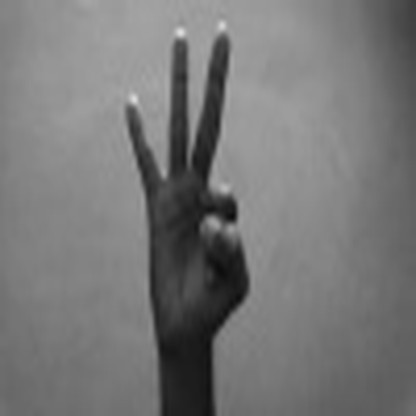f: (108, 23, 255, 326)
